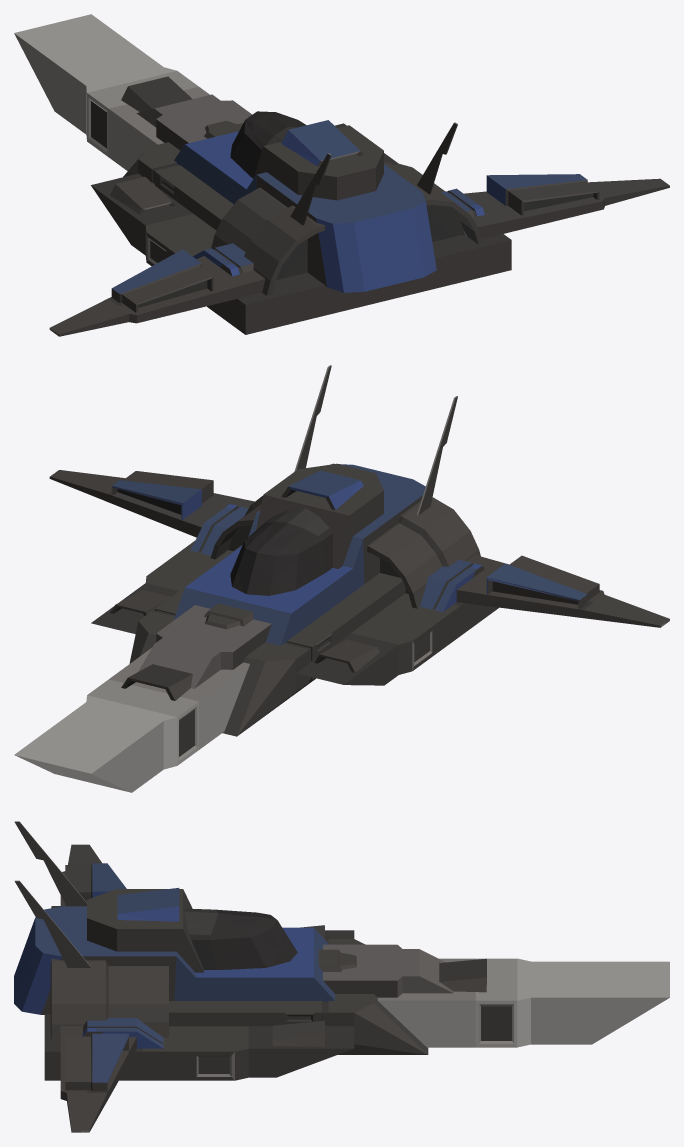
Rendered from challenger.glb.
The picture shows the model from 3 angles, top to bottom: view 1: azimuth 30°, elevation 25°; view 2: azimuth 150°, elevation 25°; view 3: azimuth 270°, elevation 25°; orthographic projection. The views are drawn at different scales.
Bounding box in the file's own units: 5.25 × 1.51 × 5.09.
